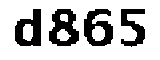5: (116, 7, 149, 50)
6: (81, 5, 114, 52)
8: (48, 7, 80, 52)
d: (12, 2, 44, 53)
